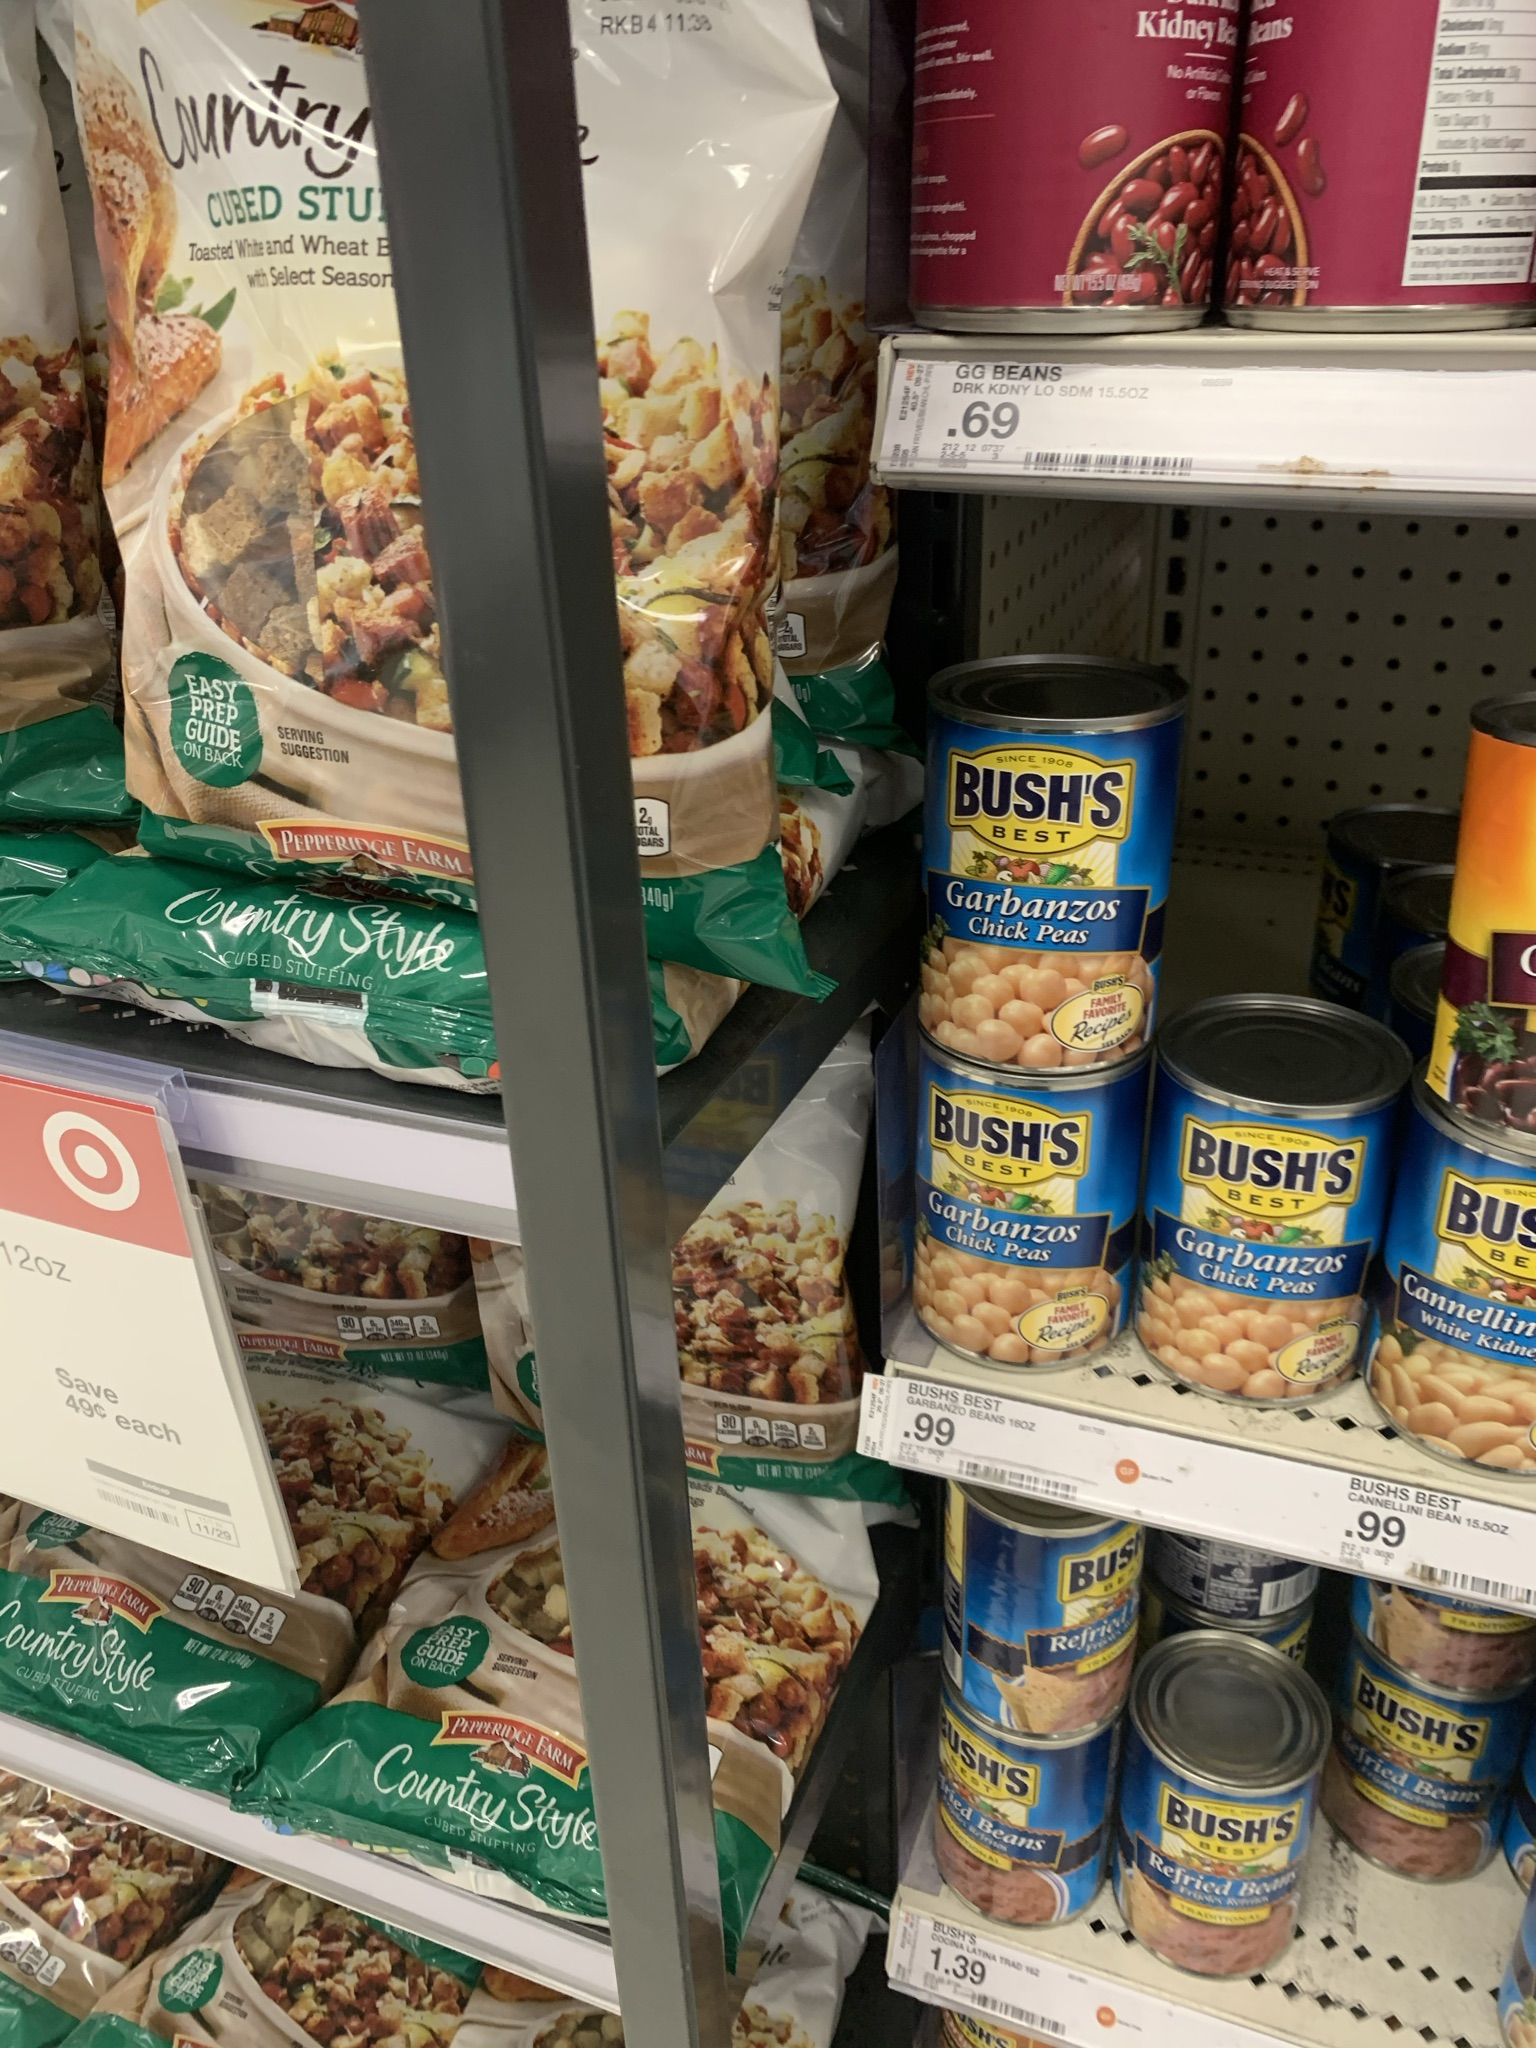can: (937, 692, 1149, 1050), (1167, 1032, 1371, 1374), (916, 1076, 1139, 1334), (1149, 1680, 1299, 1963), (945, 1522, 1117, 1732), (950, 1743, 1097, 1916)
